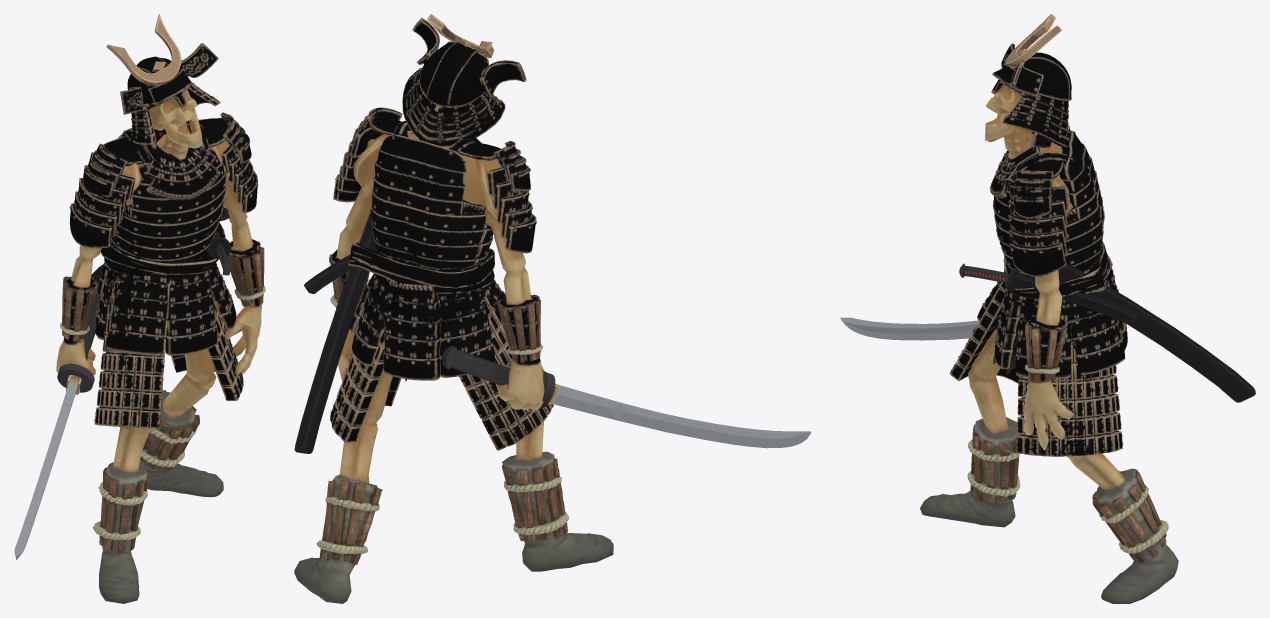
File: MZ4250 - Skeleton Samurai.glb
3 renders of one model, left to right at view 1: azimuth 30°, elevation 25°; view 2: azimuth 150°, elevation 25°; view 3: azimuth 270°, elevation 25°, orthographic. The views are drawn at different scales.
Parts seen in each view (by area): view 1: ORGANIC BASE SPHERE.002; view 2: ORGANIC BASE SPHERE.002; view 3: ORGANIC BASE SPHERE.002.
Part boxes in pixels (bbox=[...]): ORGANIC BASE SPHERE.002: bbox=[14, 14, 265, 603]; ORGANIC BASE SPHERE.002: bbox=[294, 14, 811, 603]; ORGANIC BASE SPHERE.002: bbox=[840, 14, 1255, 603].
Bounding box in the file's own units: 3.28 × 4.72 × 3.32.
Materials: 9 (9 with a texture image).
